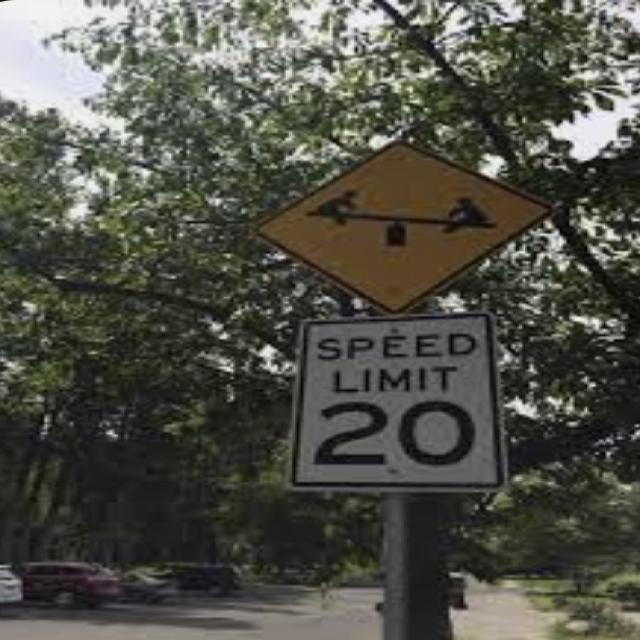speedLimit20: (305, 324, 490, 483)
